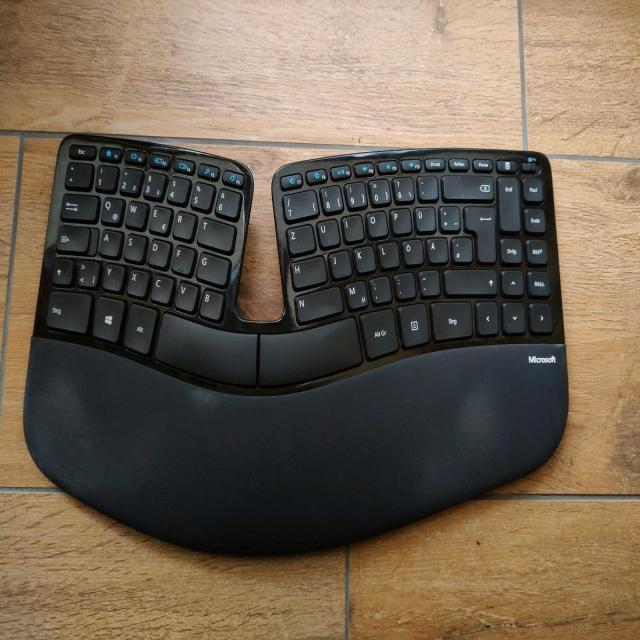0: (367, 176, 389, 203)
1: (94, 163, 116, 190)
2: (119, 165, 141, 193)
3: (142, 168, 164, 197)
4: (166, 173, 189, 202)
5: (190, 179, 214, 209)
6: (215, 186, 241, 217)
7: (281, 187, 318, 219)
8: (321, 183, 344, 212)
9: (343, 179, 366, 207)
a: (98, 227, 121, 256)
accent: (415, 173, 437, 199)
ae: (425, 235, 447, 262)
alt-left: (122, 300, 156, 353)
altgr-right: (359, 306, 397, 357)
b: (198, 287, 223, 318)
c: (149, 272, 172, 302)
caret: (63, 160, 91, 187)
comma: (367, 273, 390, 302)
d: (147, 236, 170, 267)
del: (441, 172, 493, 199)
e: (148, 202, 171, 233)
enter: (463, 203, 495, 261)
f: (170, 243, 195, 274)
g: (195, 250, 230, 285)
h: (289, 253, 327, 288)
hash: (450, 234, 471, 261)
i: (340, 212, 363, 241)
j: (330, 249, 352, 277)
k: (352, 243, 374, 272)
keyboard: (21, 119, 570, 413)
l: (377, 239, 398, 267)
less: (75, 257, 98, 287)
m: (344, 278, 367, 308)
minus: (417, 268, 438, 295)
n: (293, 283, 343, 322)
o: (364, 208, 386, 236)
oe: (400, 236, 422, 263)
p: (389, 206, 411, 233)
plus: (437, 204, 459, 231)
point: (392, 270, 415, 297)
q: (99, 194, 122, 223)
r: (172, 209, 195, 239)
s: (123, 231, 145, 261)
shift-left: (50, 255, 72, 284)
shift-lock: (54, 222, 89, 252)
shift-right: (443, 266, 496, 294)
space: (155, 309, 256, 386), (261, 316, 364, 386)
ss: (390, 174, 413, 200)
strg-left: (44, 287, 91, 333)
strg-right: (429, 298, 472, 339)
t: (197, 215, 236, 251)
tab: (58, 190, 97, 220)
u: (315, 216, 339, 246)
ue: (413, 204, 435, 231)
v: (173, 278, 197, 310)
w: (124, 198, 146, 228)
x: (125, 266, 147, 296)
y: (101, 261, 123, 290)
z: (285, 223, 314, 254)
